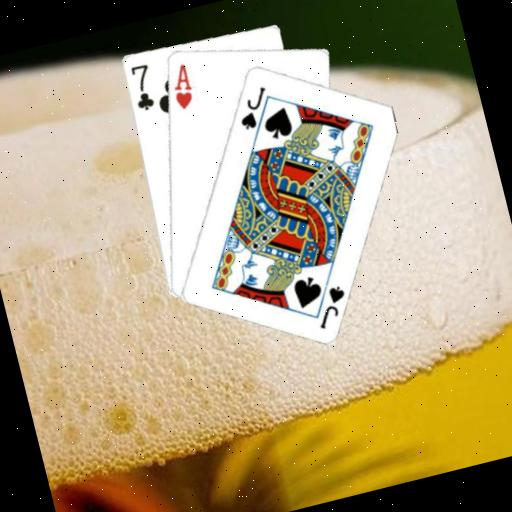7C: (125, 60, 160, 114)
AH: (164, 60, 199, 113)
JS: (307, 281, 354, 332), (230, 83, 276, 134)
